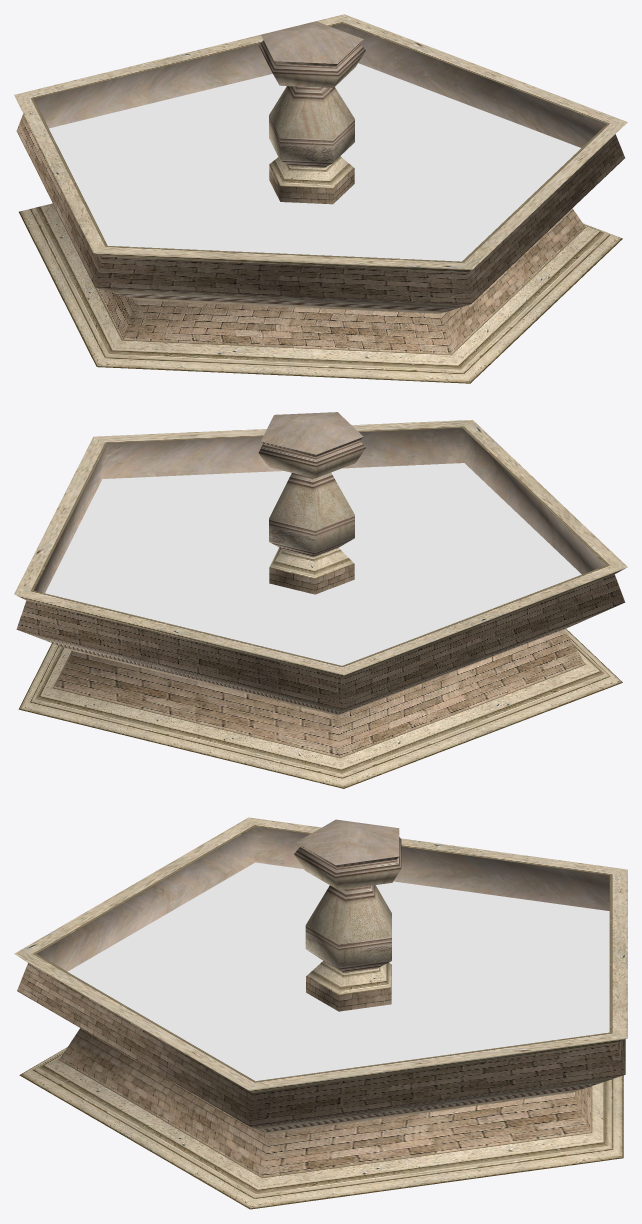
File: mun_all_imprv_fountain_sm_s01_l2.fbx
3 views of the same model, one above another, from view 1: azimuth 30°, elevation 25°; view 2: azimuth 150°, elevation 25°; view 3: azimuth 270°, elevation 25° (orthographic). The views are drawn at different scales.
Visible parts, largest first — view 1: mesh_node; view 2: mesh_node; view 3: mesh_node.
Boxes of the visible parts, <box> form: mesh_node: <box>14,14,627,383</box>; mesh_node: <box>14,412,627,788</box>; mesh_node: <box>14,817,627,1209</box>.
Bounding box in the file's own units: 7.31 × 3.09 × 6.95.
